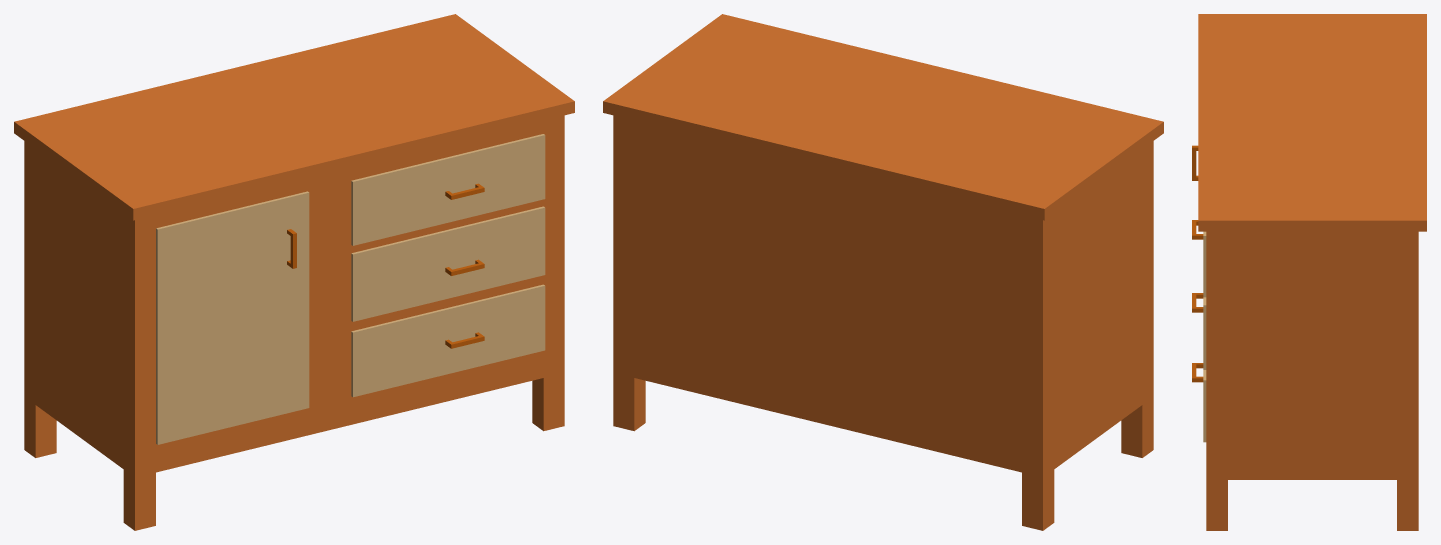
File: C_Cabinet_1.fbx
The picture shows the model from 3 angles, left to right: view 1: azimuth 30°, elevation 25°; view 2: azimuth 150°, elevation 25°; view 3: azimuth 270°, elevation 25°; orthographic projection. The views are drawn at different scales.
Visible parts, largest first — view 1: C_Cabinet_1; view 2: C_Cabinet_1; view 3: C_Cabinet_1.
Boxes of the visible parts, x1,y1,x2,y2 form: C_Cabinet_1: [14, 14, 574, 530]; C_Cabinet_1: [603, 14, 1163, 530]; C_Cabinet_1: [1192, 14, 1426, 530].
Bounding box in the file's own units: 1105 × 531 × 781.
